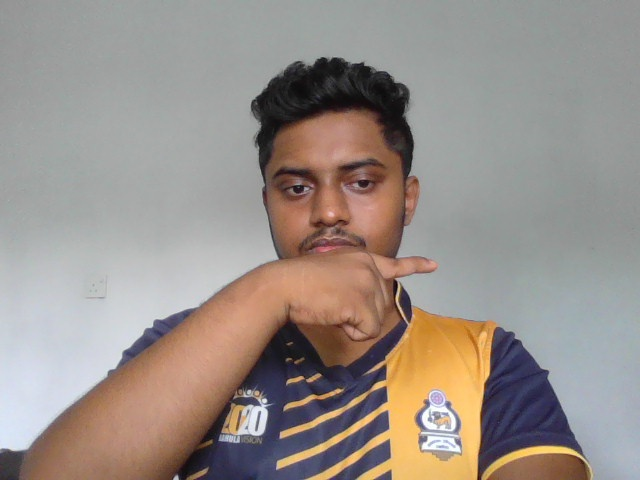Going To: (245, 247, 440, 340)
